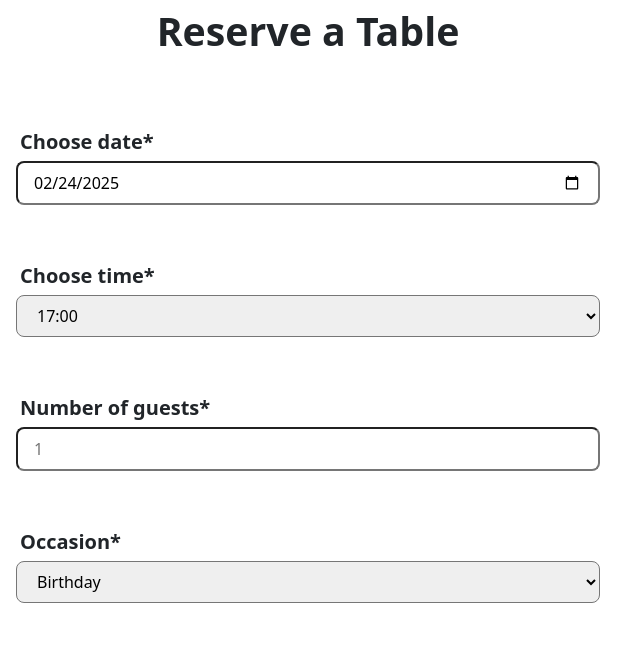
Testing date input validation › Should show error message when the date is after more than a year
Step 1. Type "2027-01-01" into the date field labelled "Choose date*" → (308, 183), box 16,161 -> 600,205
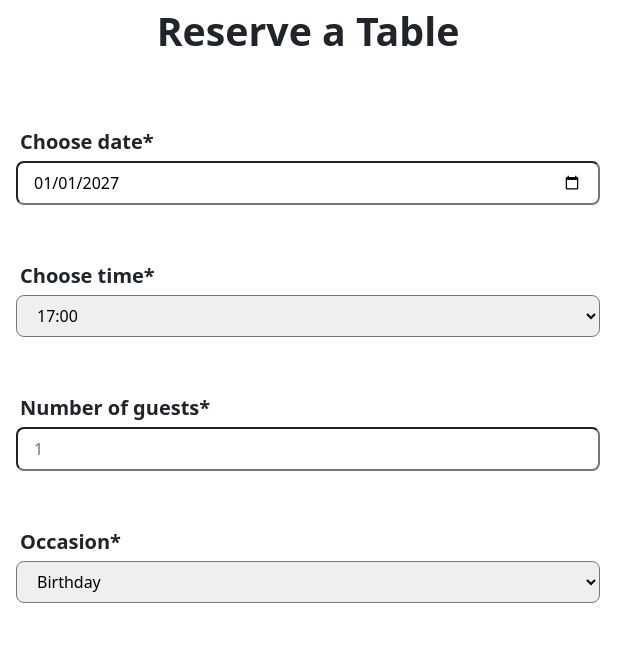
Step 2. Leave the date field labelled "Choose date*", box 16,161 -> 600,205
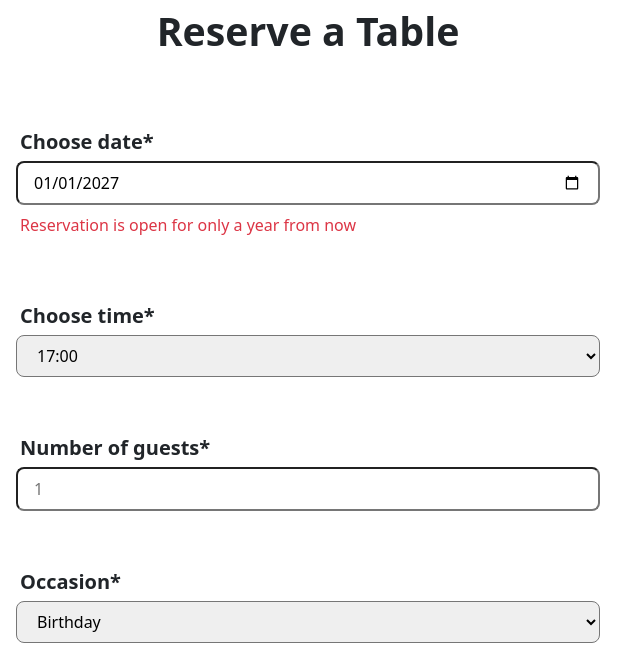
Now the text "Reservation is open for only a year from now" is shown, box 20,214 -> 356,236
